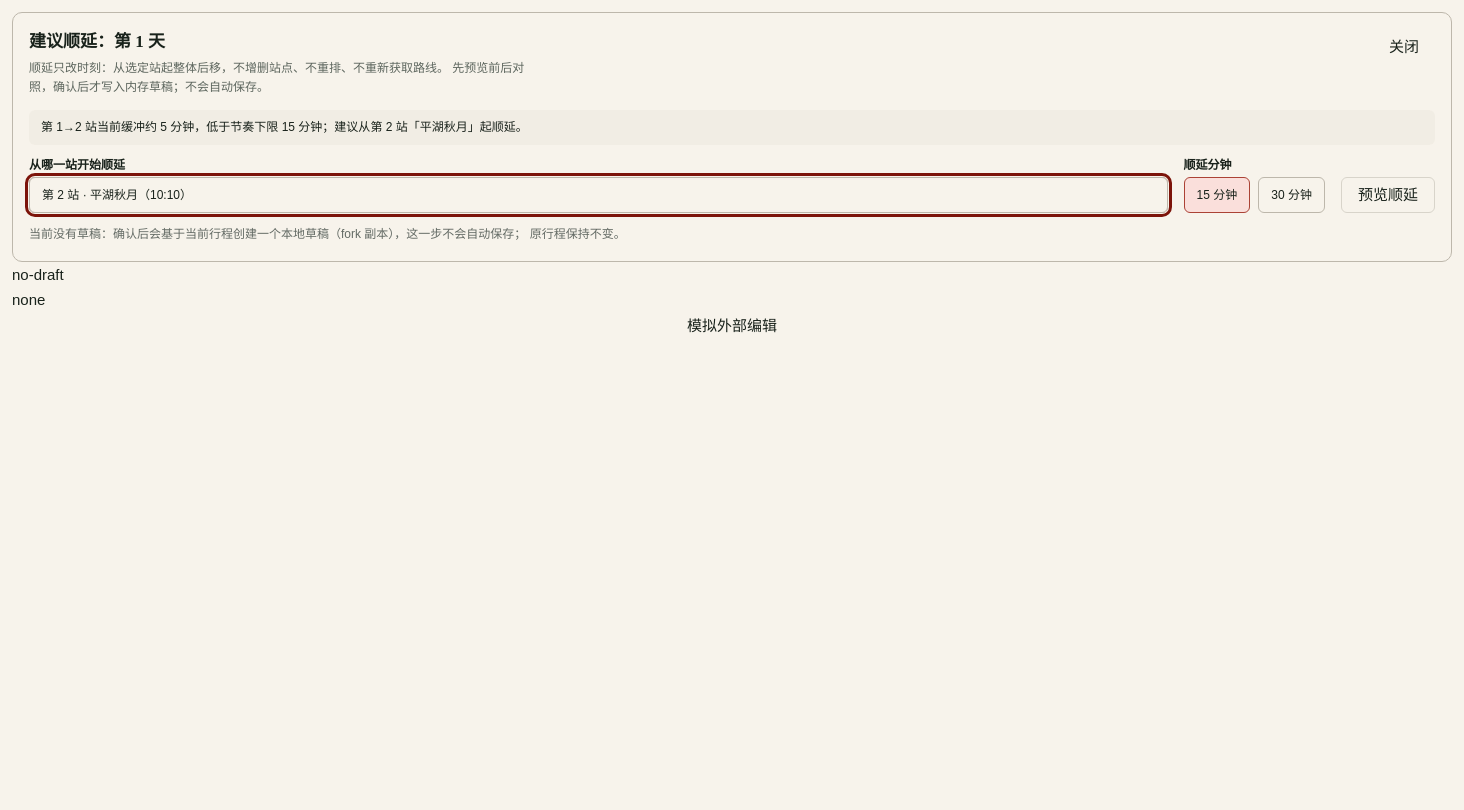
Test: PostponePanel › 创建草稿失败 → 明示错误且不写任何草稿
Step 1. Click the button with test id "postpone-preview-action" → (1388, 195), box [1341,177,1435,213]
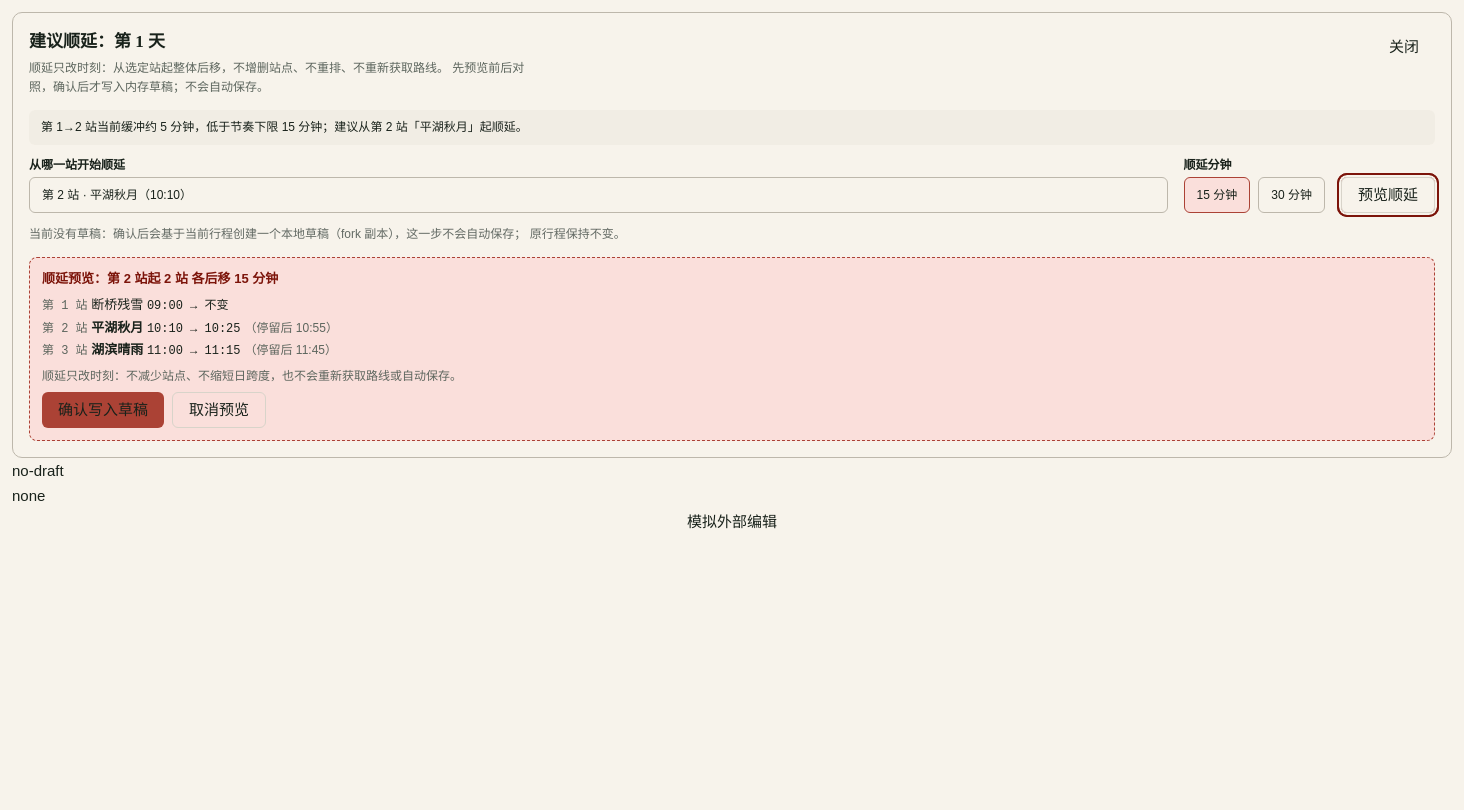
Step 2. Click the button with test id "postpone-confirm" → (103, 410), box [42,392,164,428]
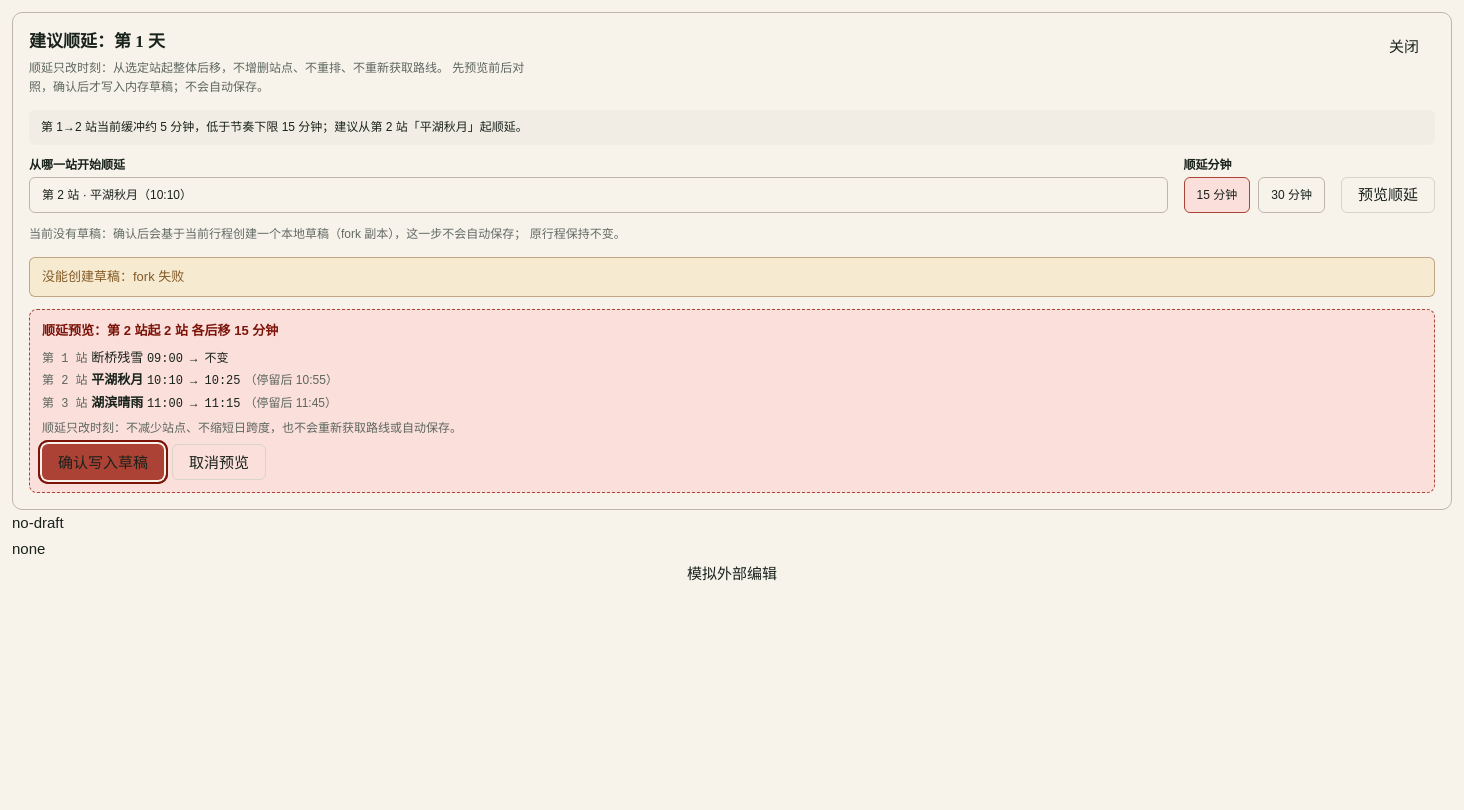
expect the text with test id "harness-times" reads "no-draft": met, box [12,514,64,531]
expect the message reads "没能创建草稿：fork 失败": met, box [42,268,184,284]
